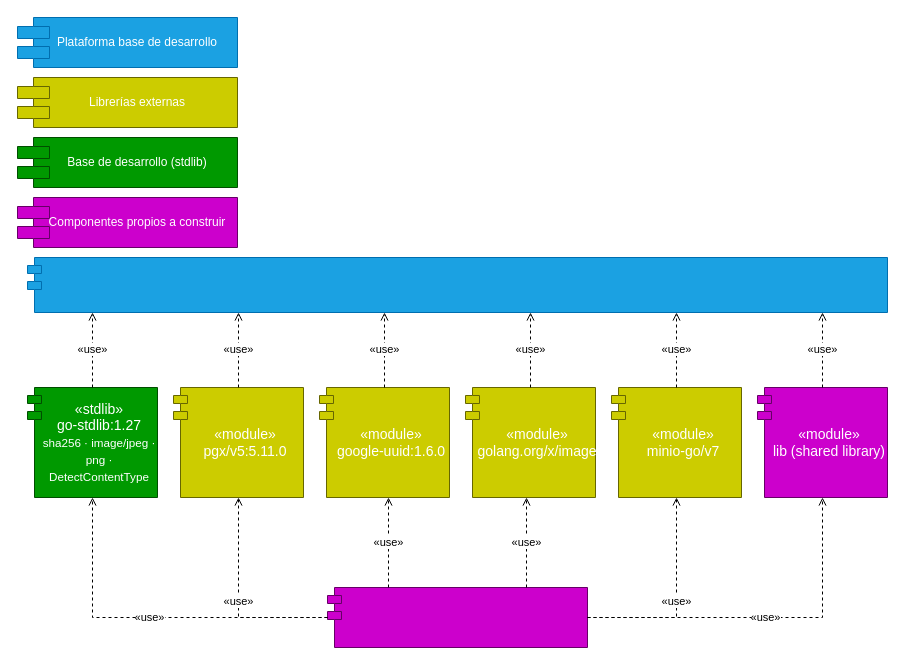
Some shapes in this 905 by 665 pixel diagram are drawn without their labels. The centre of each missing label's shape, as x and y in pixels:
«binary» processor-service: point 457,617
«runtime» go:1.27: point 457,284
